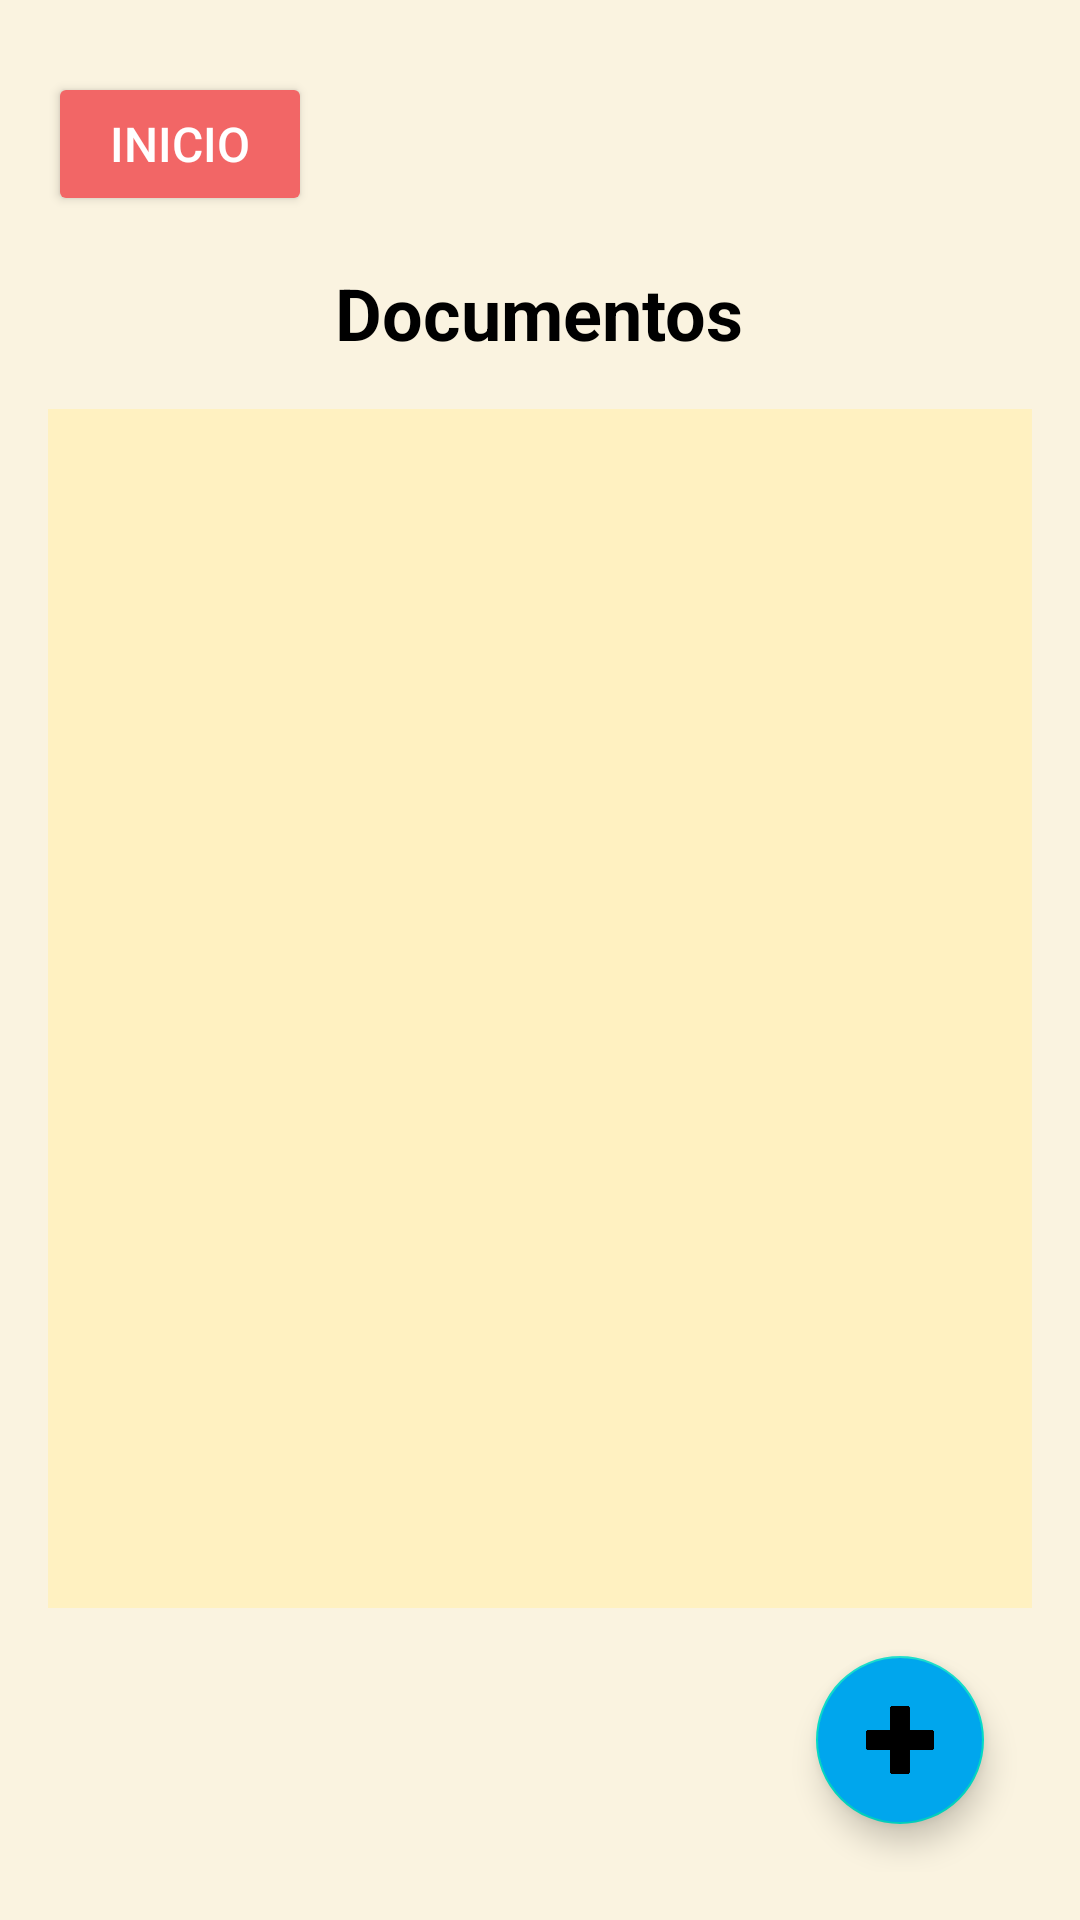

Named icons in this screenshot (1080w x 1920h) and their bounding boxes, (x1=x1, y1=y1, x2=x2, y2=y2):
Añadir documento: (x1=816, y1=1656, x2=984, y2=1824)
